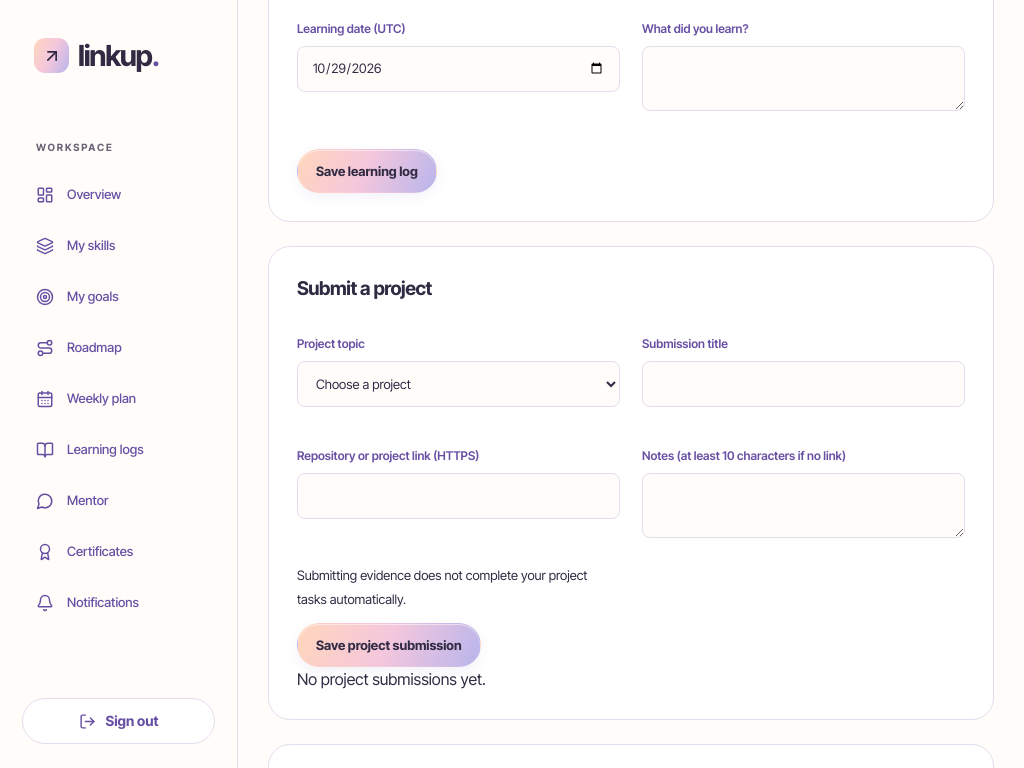
Test: Learning logs and projects › submits project notes without completing tasks automatically
(page scrolled)
Select "Build a small app" in the dropdown labelled "Project topic" at (458, 384), box x1=297 y1=361 x2=620 y2=407
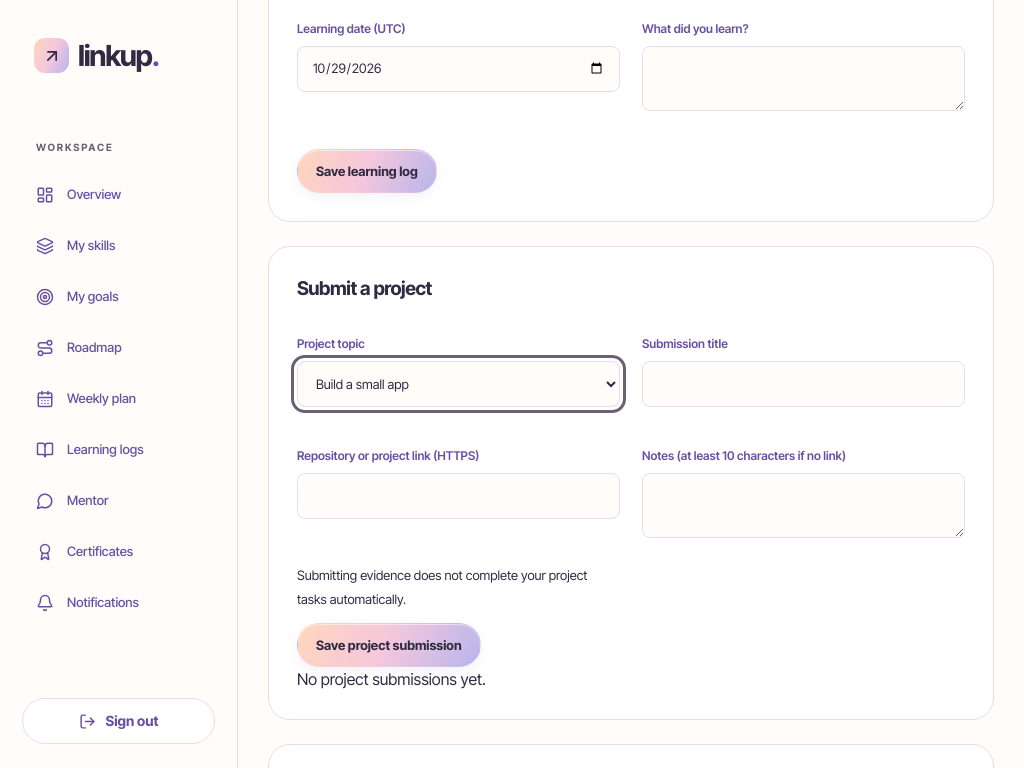
Type "Learning app" into the field labelled "Submission title" at (804, 384), box x1=642 y1=361 x2=965 y2=407
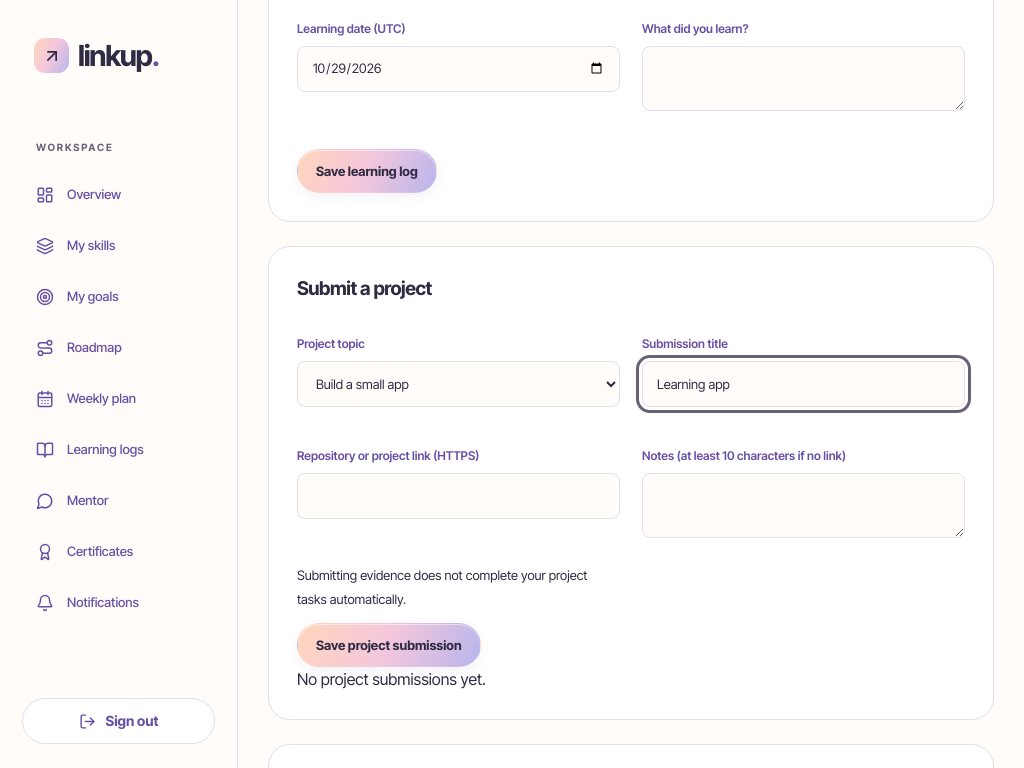
Type "Implemented and tested the app." into the text box labelled "Notes (at least 10 characters if no link)" at (804, 506), box x1=642 y1=473 x2=965 y2=538
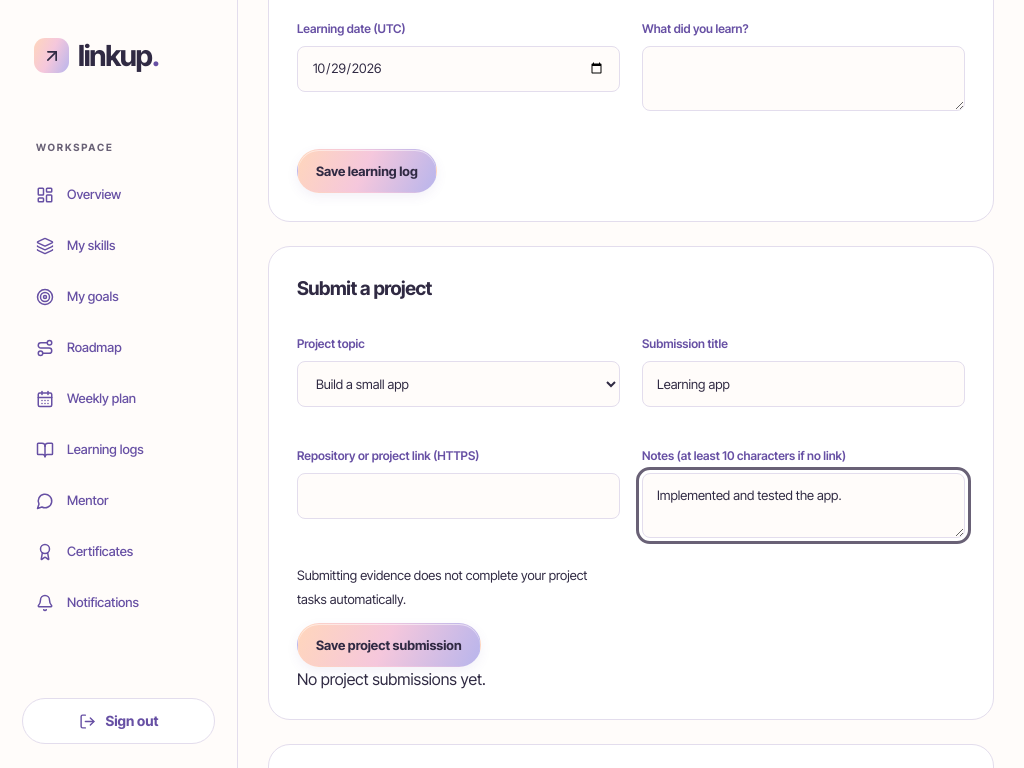
Click the button "Save project submission" at (389, 645), box x1=297 y1=623 x2=481 y2=667
(page scrolled)
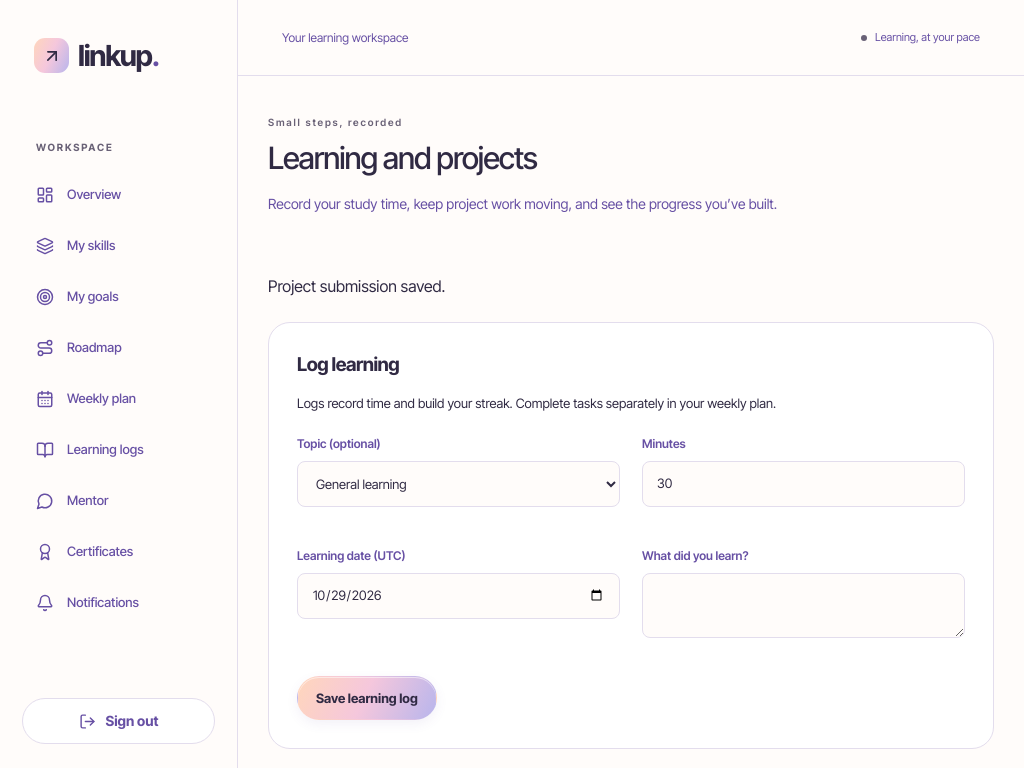
Check: the text "Project submission saved." is shown, box x1=268 y1=276 x2=445 y2=296
